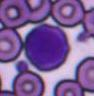L: (26, 24, 70, 72)
